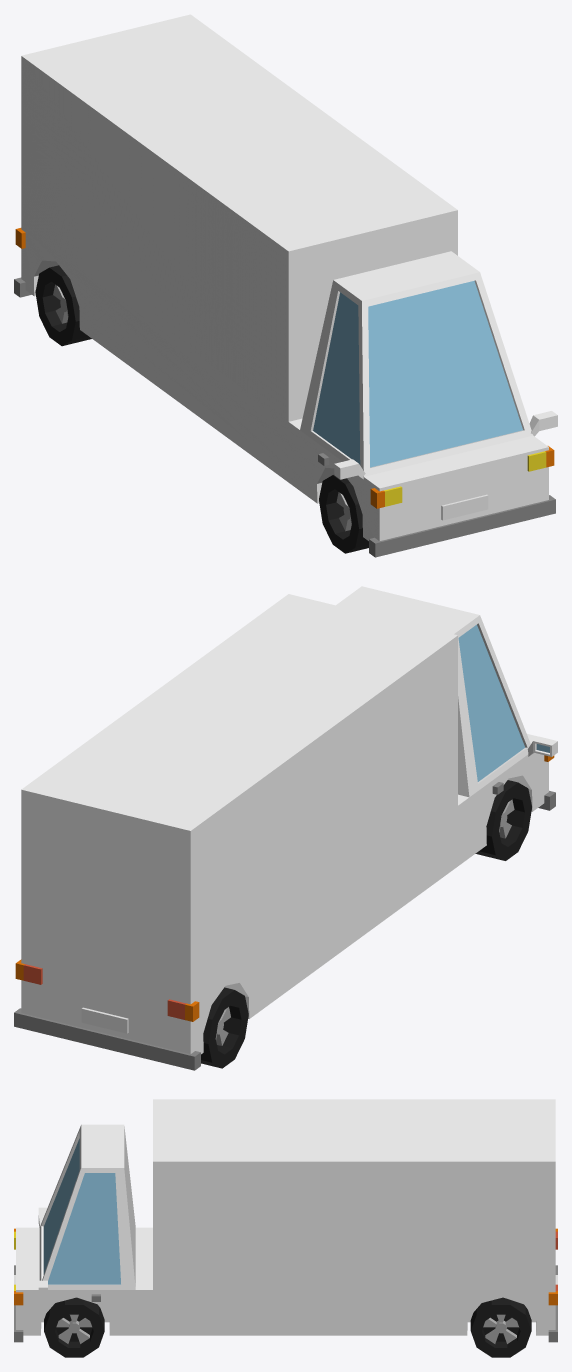
Rendered from car-lowpoly-2.fbx.
3 views of the same model, one above another, from view 1: azimuth 30°, elevation 25°; view 2: azimuth 150°, elevation 25°; view 3: azimuth 270°, elevation 25° (orthographic). The views are drawn at different scales.
Visible parts, largest first — view 1: car-lowpoly-2; view 2: car-lowpoly-2; view 3: car-lowpoly-2.
Part boxes in pixels (x1,y1,x2,y2): car-lowpoly-2: (14, 14, 557, 557); car-lowpoly-2: (14, 586, 557, 1070); car-lowpoly-2: (14, 1099, 557, 1357).
Bounding box in the file's own units: 321 × 365 × 923.
